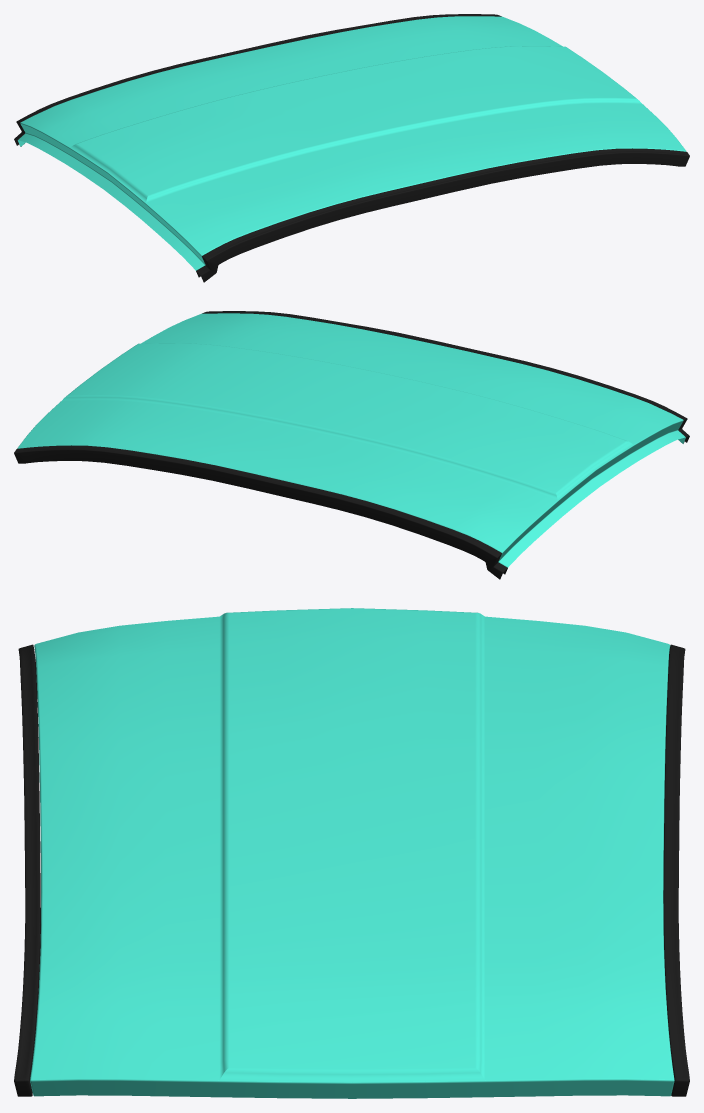
The picture shows the model from 3 angles, top to bottom: view 1: azimuth 30°, elevation 25°; view 2: azimuth 150°, elevation 25°; view 3: azimuth 270°, elevation 25°; orthographic projection. The views are drawn at different scales.
Parts seen in each view (by area): view 1: H025_10_341B_C_1_DaS_H025_10_341B_C, H025_10_341B_C_H025_10_341B_C_2_D; view 2: H025_10_341B_C_1_DaS_H025_10_341B_C, H025_10_341B_C_H025_10_341B_C_2_D; view 3: H025_10_341B_C_1_DaS_H025_10_341B_C, H025_10_341B_C_H025_10_341B_C_2_D.
Boxes of the visible parts, x1=… form: H025_10_341B_C_1_DaS_H025_10_341B_C: x1=17, y1=16, x2=686, y2=270; H025_10_341B_C_H025_10_341B_C_2_D: x1=14, y1=14, x2=689, y2=282; H025_10_341B_C_1_DaS_H025_10_341B_C: x1=17, y1=313, x2=685, y2=567; H025_10_341B_C_H025_10_341B_C_2_D: x1=14, y1=311, x2=689, y2=579; H025_10_341B_C_1_DaS_H025_10_341B_C: x1=30, y1=608, x2=674, y2=1098; H025_10_341B_C_H025_10_341B_C_2_D: x1=14, y1=644, x2=689, y2=1096.
Size of the model in its own units: 152 by 15.58 by 101.
